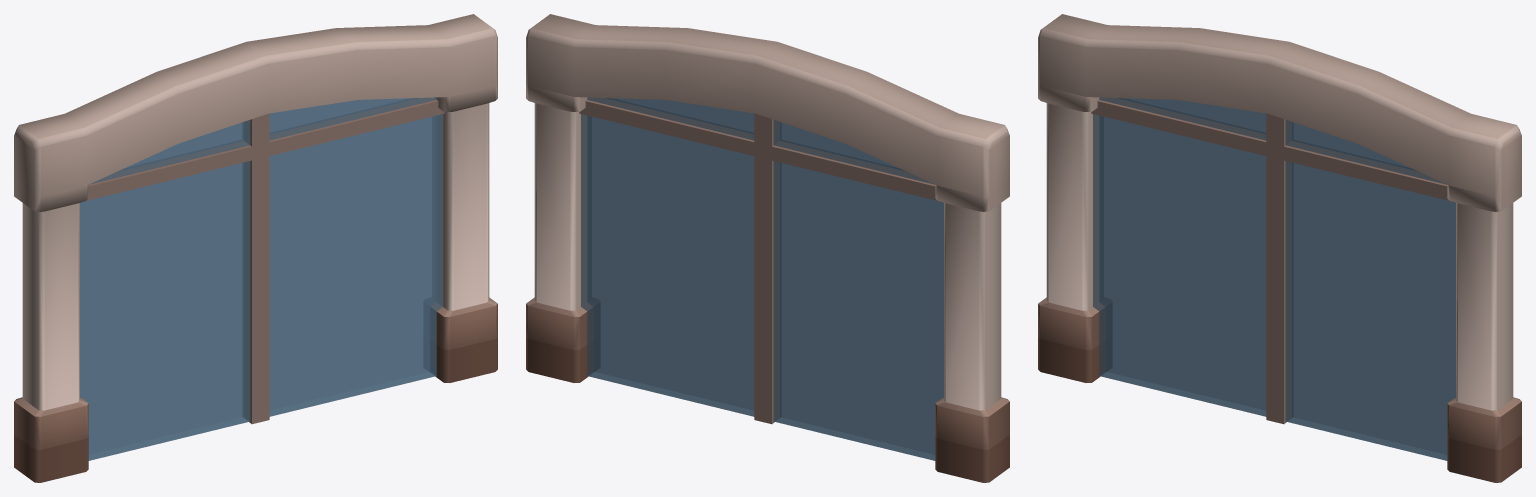
The model's file is Gates-hall.fbx.
3 renders of one model, left to right at view 1: azimuth 30°, elevation 25°; view 2: azimuth 150°, elevation 25°; view 3: azimuth 330°, elevation 25°, orthographic.
Parts seen in each view (by area): view 1: Gates-hall, GlassDoor-R, GlassDoor-L; view 2: Gates-hall, GlassDoor-R, GlassDoor-L; view 3: Gates-hall, GlassDoor-L, GlassDoor-R.
Boxes of the visible parts, bbox=[...] form: Gates-hall: bbox=[14, 14, 497, 482]; GlassDoor-R: bbox=[269, 114, 442, 416]; GlassDoor-L: bbox=[80, 161, 250, 460]; Gates-hall: bbox=[526, 14, 1009, 482]; GlassDoor-R: bbox=[581, 114, 754, 416]; GlassDoor-L: bbox=[773, 161, 943, 460]; Gates-hall: bbox=[1038, 14, 1521, 482]; GlassDoor-L: bbox=[1093, 114, 1266, 416]; GlassDoor-R: bbox=[1285, 161, 1455, 460].
Bounding box in the file's own units: 340 × 259 × 30.91.
